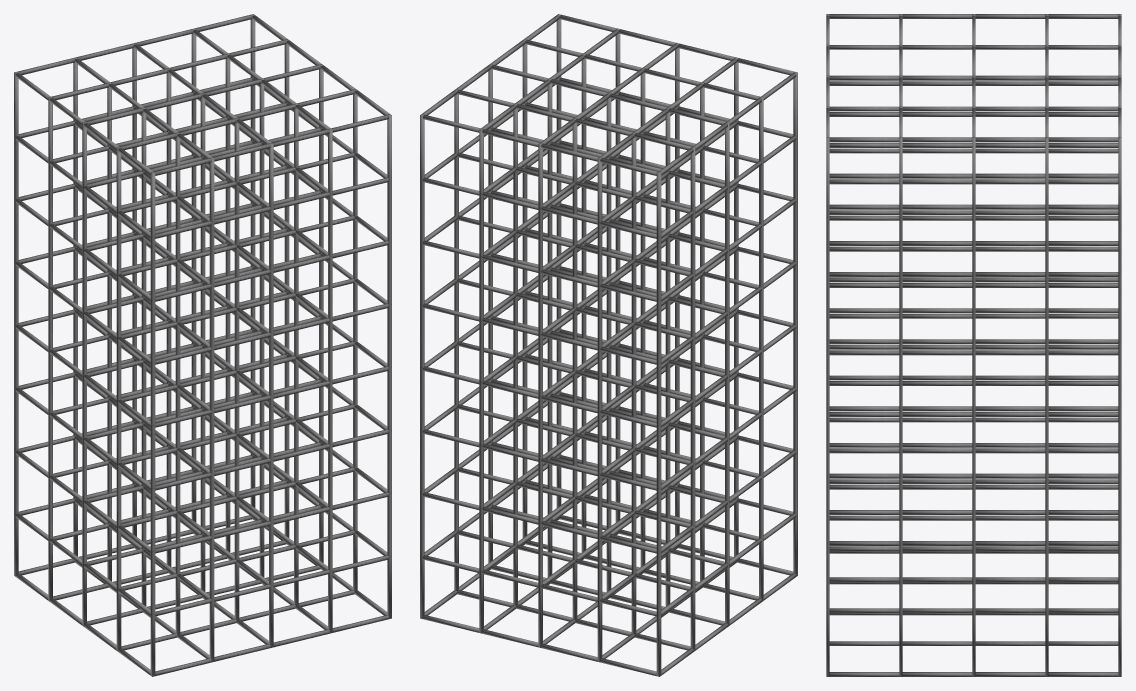
Rendered from metal-building.obj.
3 views of the same model, side by side, from view 1: azimuth 30°, elevation 25°; view 2: azimuth 150°, elevation 25°; view 3: azimuth 270°, elevation 25° (orthographic). The views are drawn at different scales.
Parts seen in each view (by area): view 1: metal-building; view 2: metal-building; view 3: metal-building.
Part boxes in pixels (<box>): metal-building: <box>14,14,391,676</box>; metal-building: <box>420,14,797,676</box>; metal-building: <box>826,14,1121,676</box>.
Size of the model in its own units: 19.93 by 40 by 19.92.
1 material, 1 textured.
